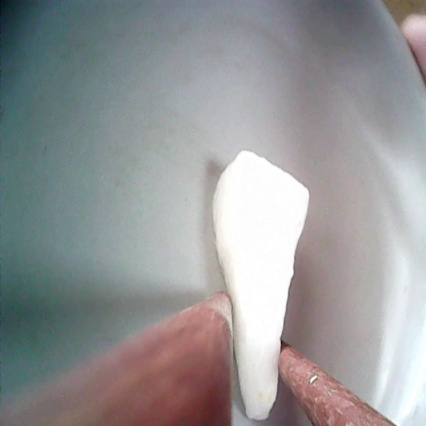white_chinese-yam: (212, 146, 312, 422)
